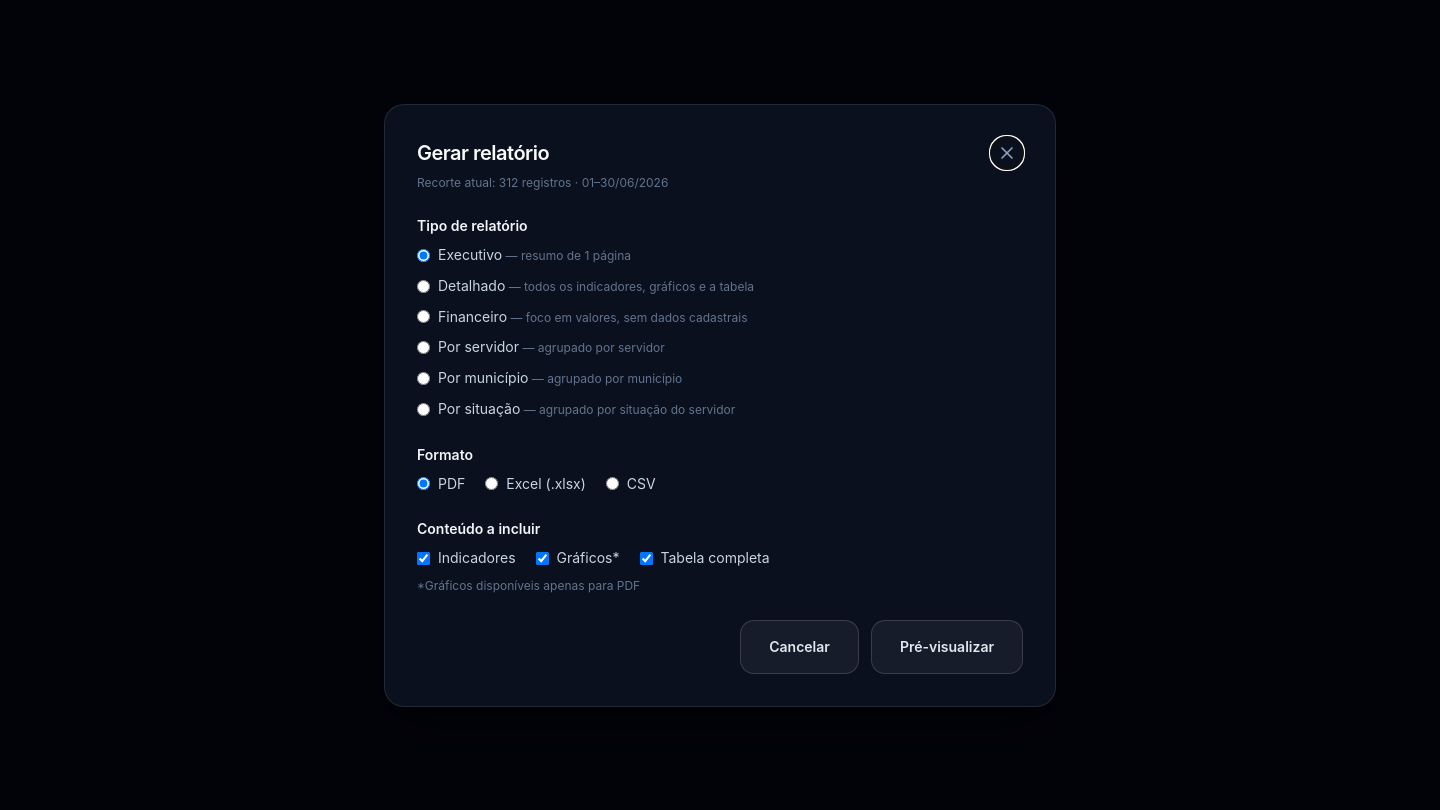
Test case: ModalRelatorio › voltar para PDF depois de Excel reabilita 'Gráficos' (mas não remarca sozinho)
Click the radio button labelled "CSV". click: (612, 484)
box: [606,477,619,490]
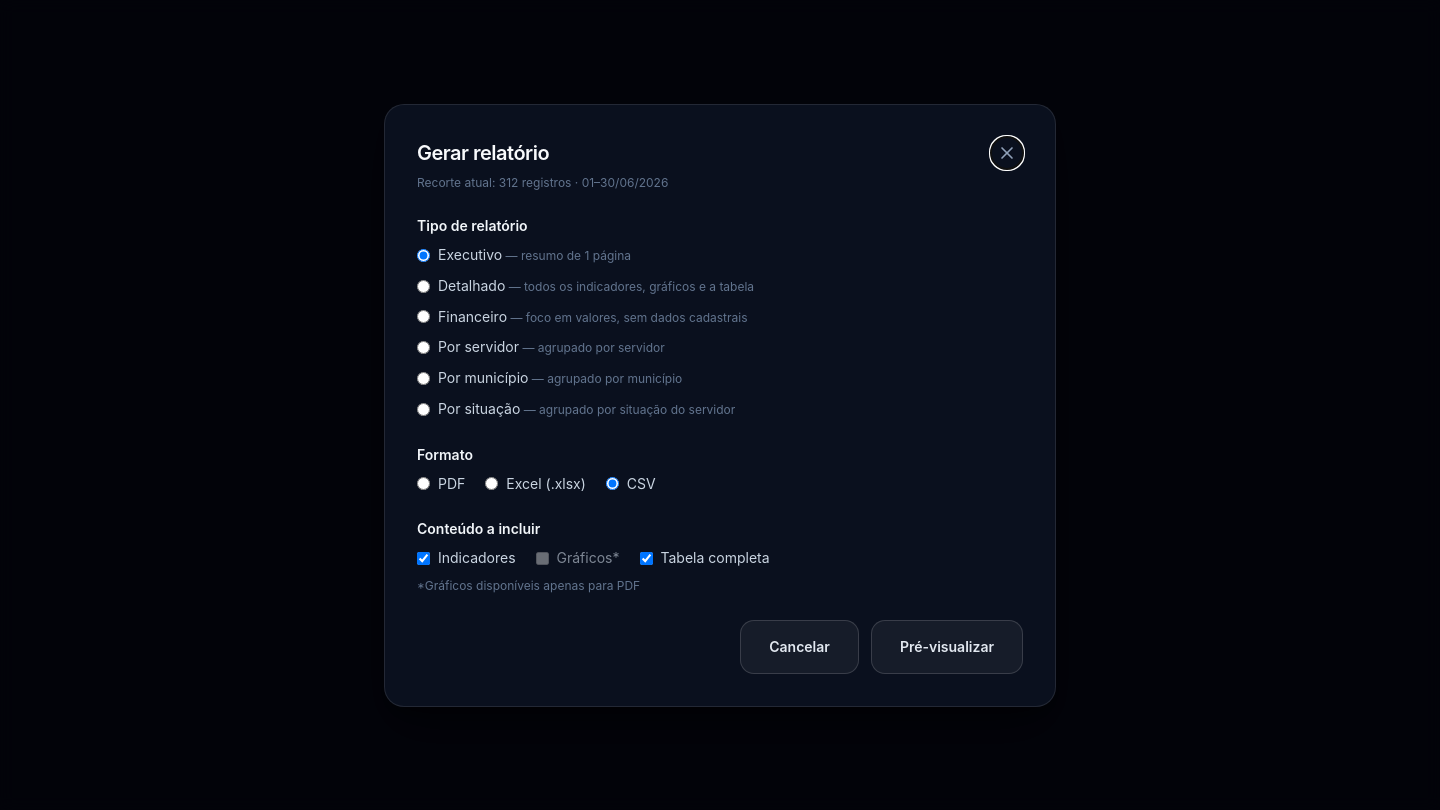
Click the radio button labelled "PDF". click: (424, 484)
box: [417,477,430,490]
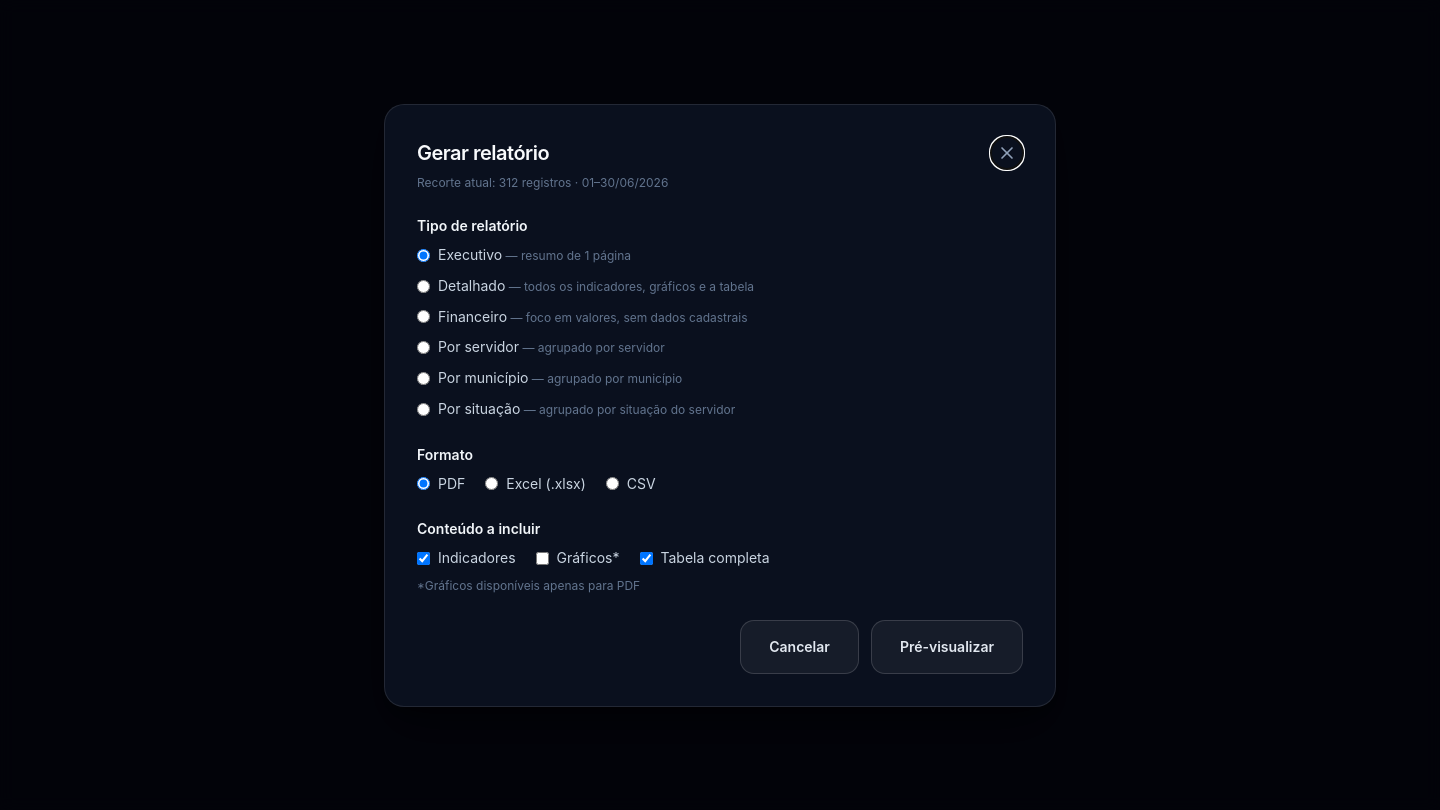
Check: the checkbox labelled "Gráficos*" is enabled, box [536,552,548,565]
